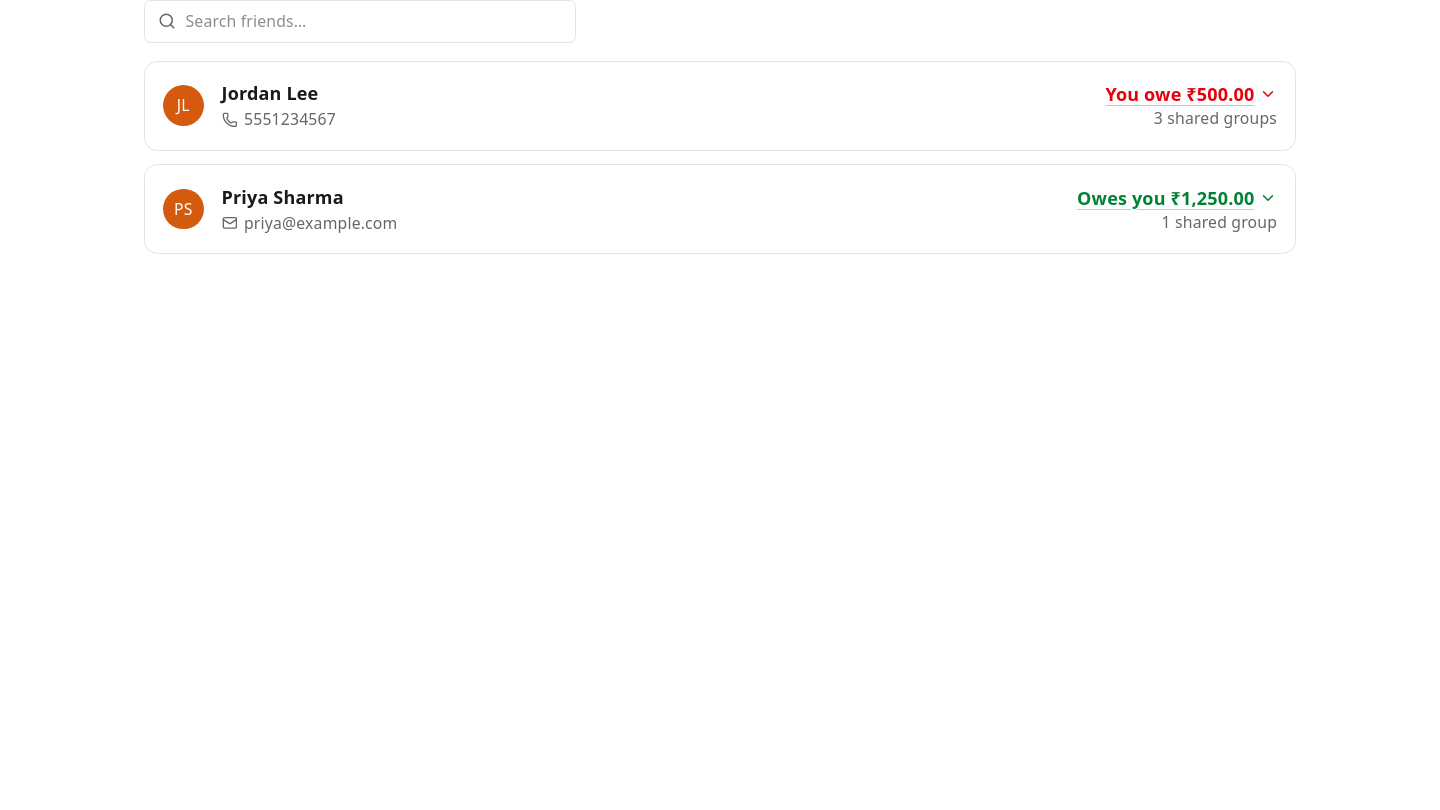
Test: FriendsPage › reveals per-group balances and links each group to its detail page
Click the button with aria-label "view balance breakdown with priya sharma" at coordinates (1177, 198), box [1077,185,1277,211]
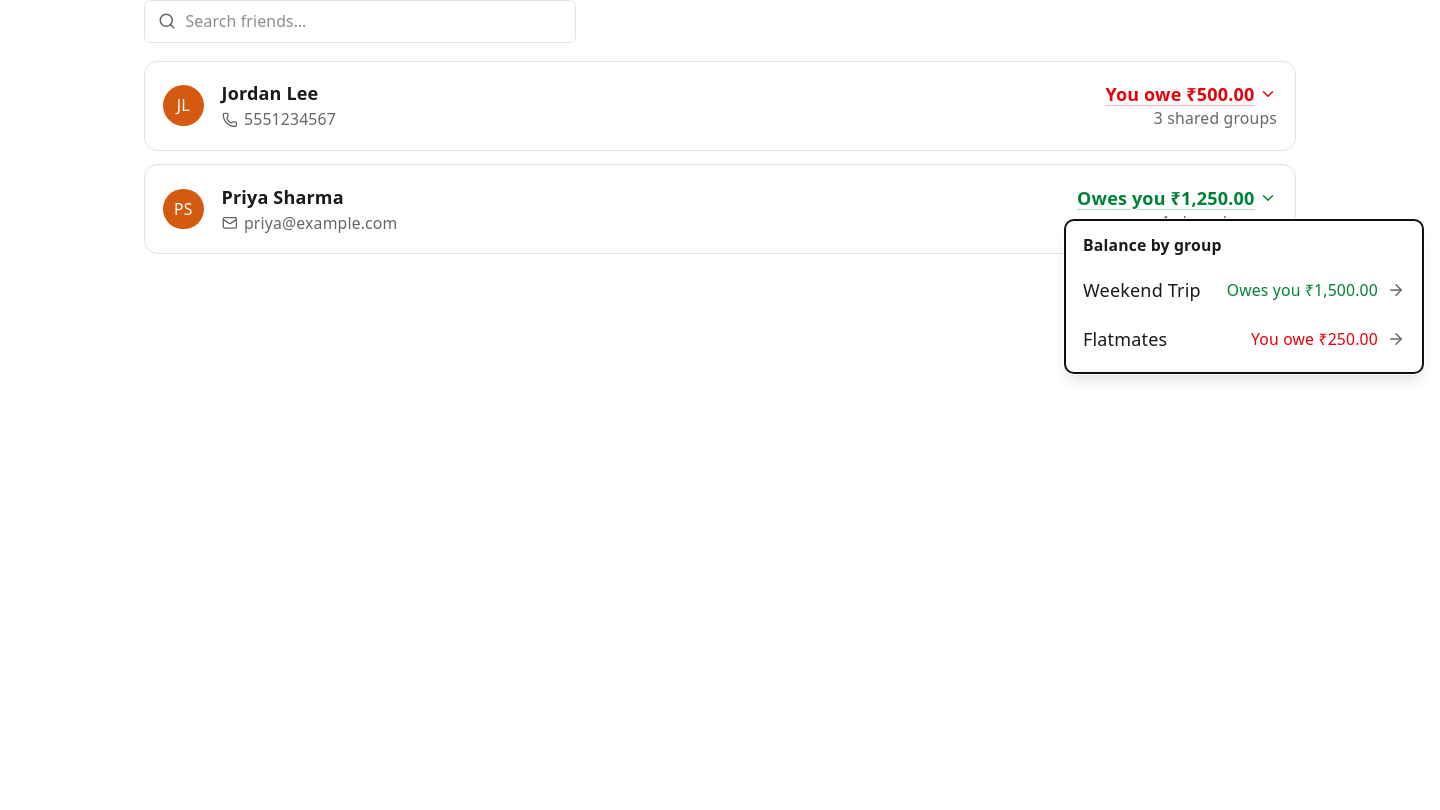
Now the dialog named "balance breakdown with priya" is shown, box [1064,219,1424,374]
Now the text "Owes you ₹1,500.00" is shown, box [1227,278,1378,301]
Now the text "You owe ₹250.00" is shown, box [1251,328,1378,350]
